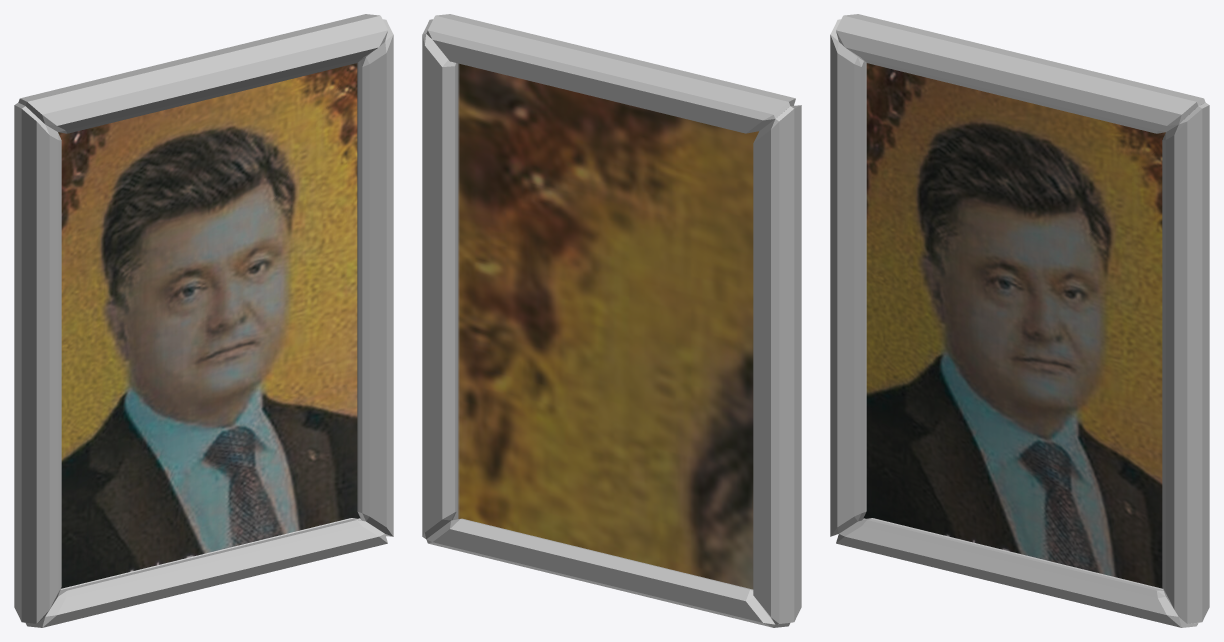
File: Portret_P.Poroshenko.fbx
3 renders of one model, left to right at view 1: azimuth 30°, elevation 25°; view 2: azimuth 150°, elevation 25°; view 3: azimuth 330°, elevation 25°, orthographic.
Parts seen in each view (by area): view 1: P.Poroshenko, frame.001; view 2: P.Poroshenko, frame.001; view 3: P.Poroshenko, frame.001.
Part boxes in pixels (<box>): P.Poroshenko: <box>58,63,360,588</box>; frame.001: <box>14,14,393,627</box>; P.Poroshenko: <box>453,63,758,589</box>; frame.001: <box>422,14,801,627</box>; P.Poroshenko: <box>863,63,1165,588</box>; frame.001: <box>830,14,1209,627</box>.
Size of the model in its own units: 81.84 by 112 by 10.99.
